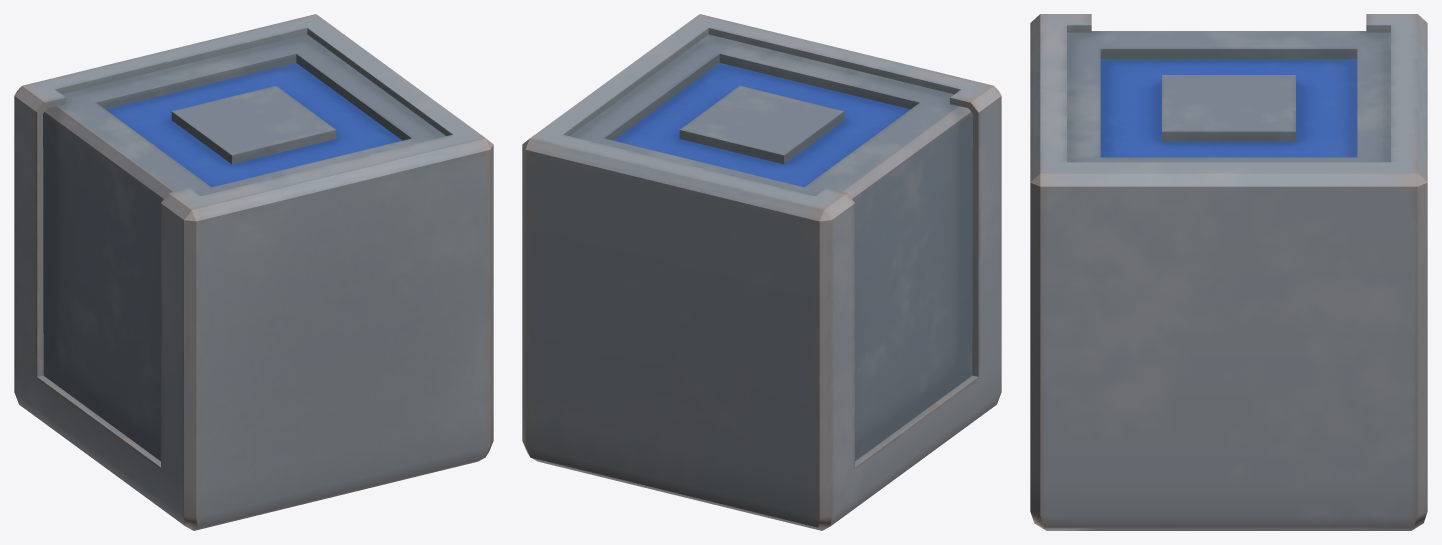
Rendered from PressurePlate_NewBlue.fbx.
3 renders of one model, left to right at view 1: azimuth 30°, elevation 25°; view 2: azimuth 150°, elevation 25°; view 3: azimuth 270°, elevation 25°, orthographic. The views are drawn at different scales.
Visible parts, largest first — view 1: ButtonBlue; view 2: ButtonBlue; view 3: ButtonBlue.
Boxes of the visible parts, bbox=[...] form: ButtonBlue: bbox=[14, 14, 493, 530]; ButtonBlue: bbox=[522, 14, 1001, 530]; ButtonBlue: bbox=[1030, 14, 1427, 530].
Size of the model in its own units: 200 by 200 by 200.
